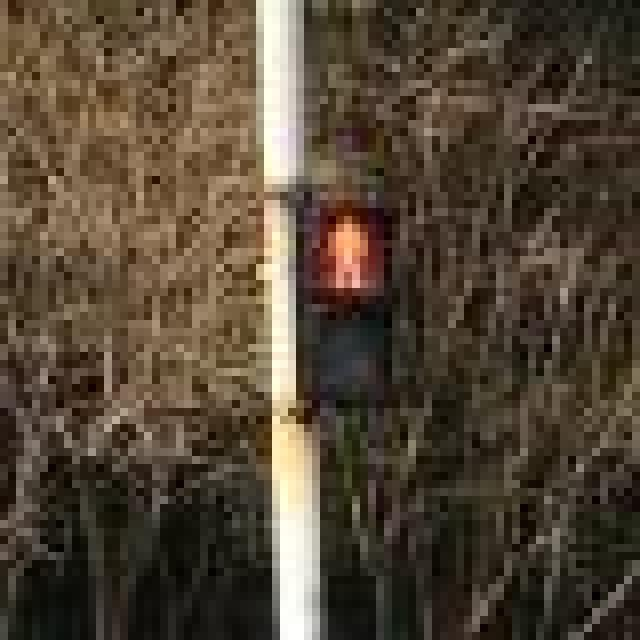redlight: (280, 192, 400, 400)
